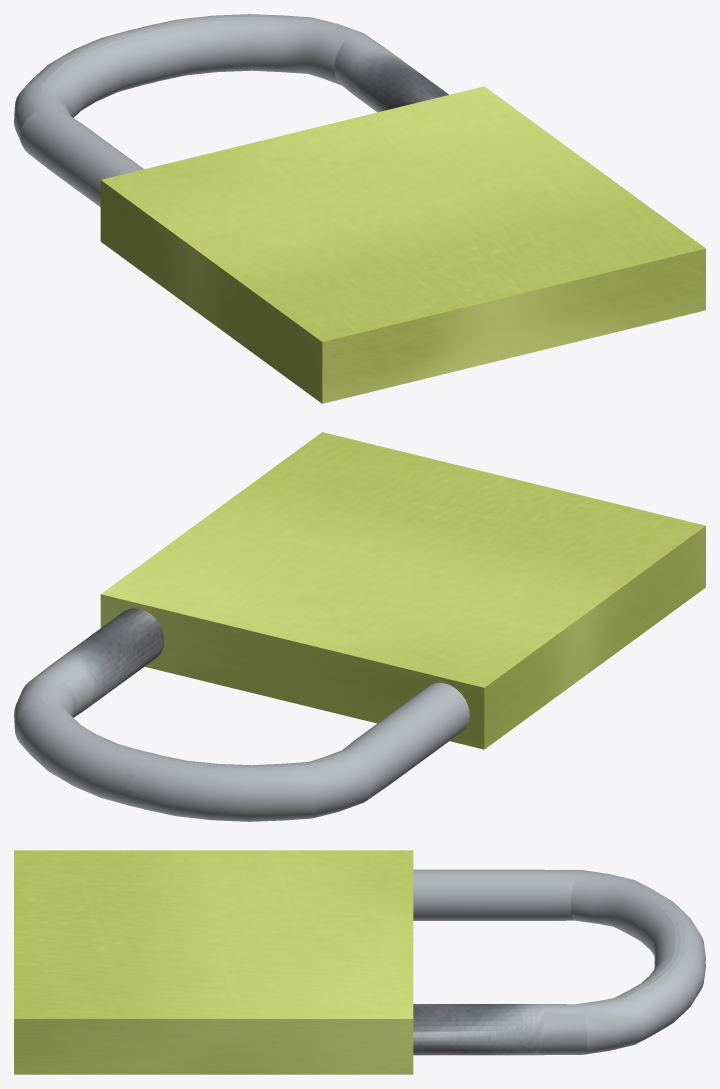
Rendered from lock_yellow.fbx.
The picture shows the model from 3 angles, top to bottom: view 1: azimuth 30°, elevation 25°; view 2: azimuth 150°, elevation 25°; view 3: azimuth 270°, elevation 25°; orthographic projection. The views are drawn at different scales.
Visible parts, largest first — view 1: Cube, Cylinder.002; view 2: Cube, Cylinder.002; view 3: Cube, Cylinder.002.
Part boxes in pixels (<box>): Cube: <box>100,86,705,403</box>; Cylinder.002: <box>14,14,448,207</box>; Cube: <box>100,432,705,749</box>; Cylinder.002: <box>14,608,469,821</box>; Cube: <box>14,850,413,1074</box>; Cylinder.002: <box>413,869,705,1055</box>.
Bounding box in the file's own units: 312 × 48 × 541.
